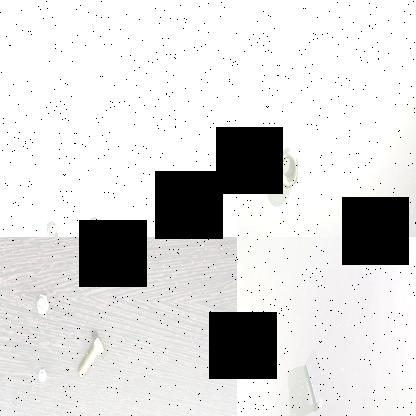Bolts: (78, 329, 110, 383), (300, 360, 325, 414), (34, 290, 52, 320)
NUTS: (276, 148, 300, 193), (82, 211, 112, 237), (237, 147, 253, 183), (44, 218, 62, 237)
